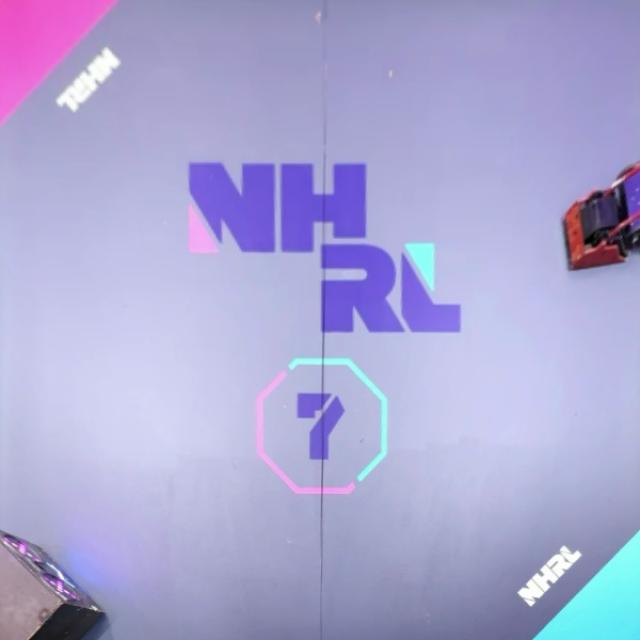housebot: (0, 530, 105, 640)
robot: (563, 162, 640, 270), (616, 162, 640, 250)
